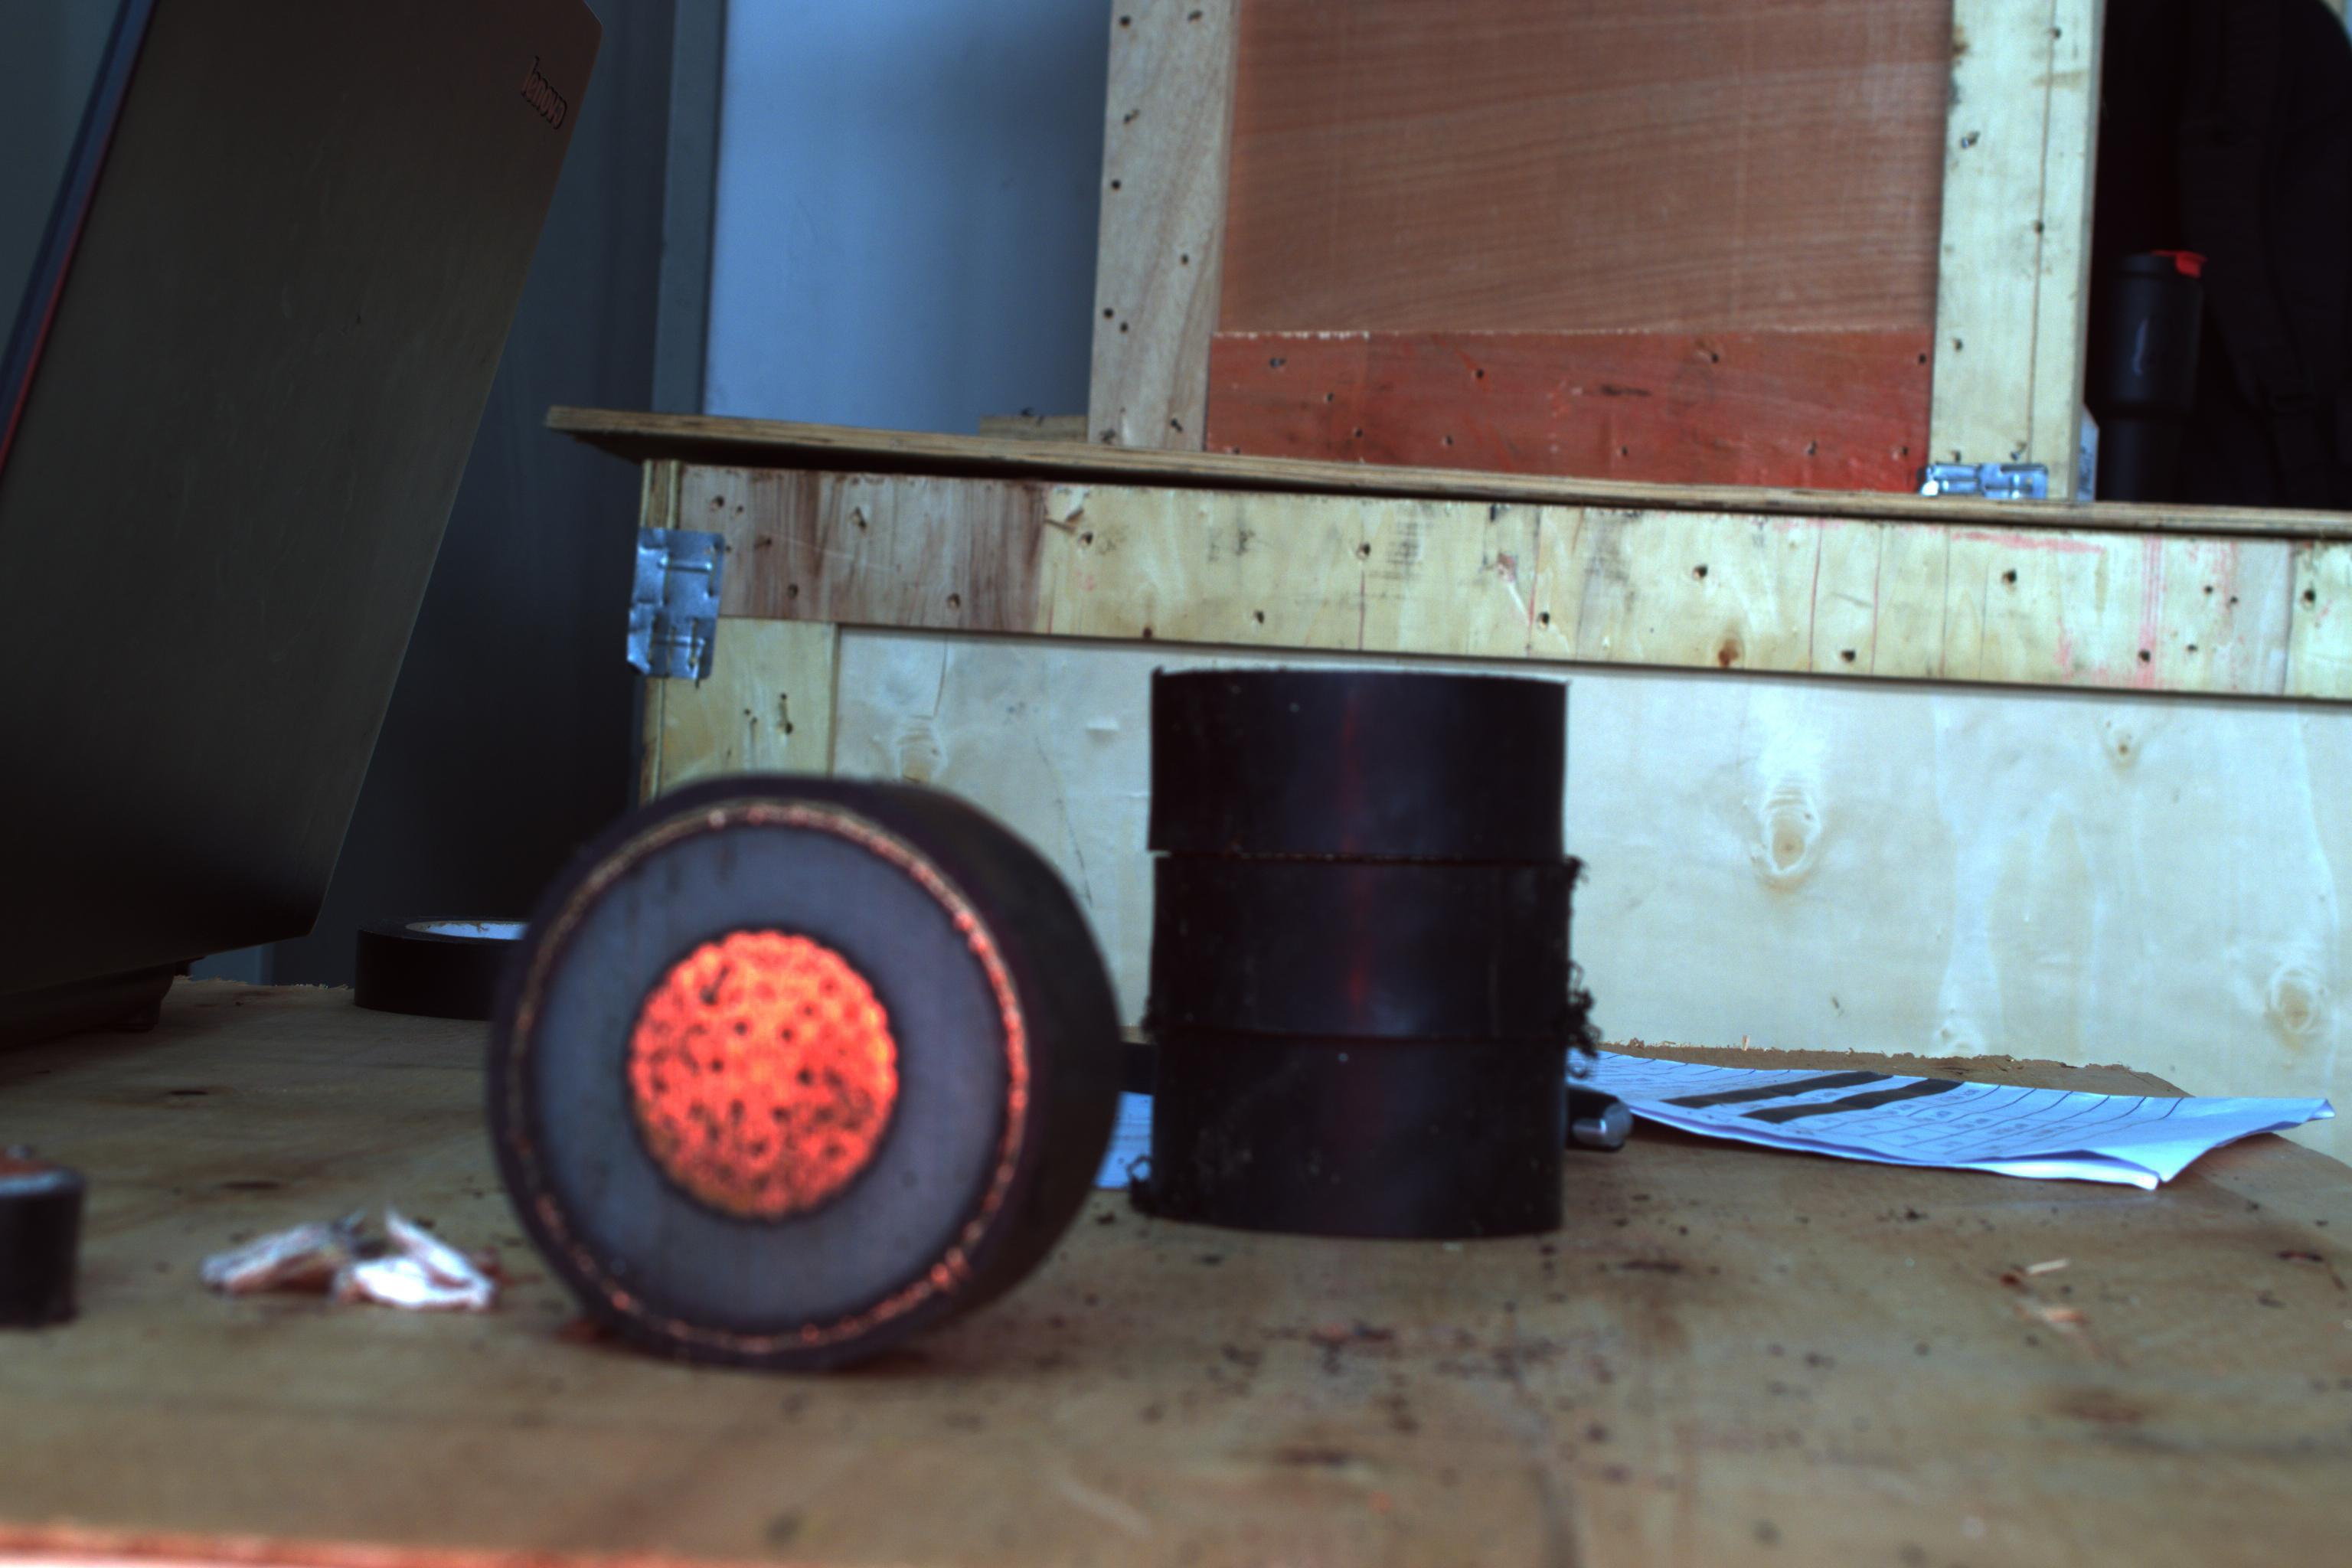YJV_26_35kV_1x630: (497, 782, 1024, 1377)
